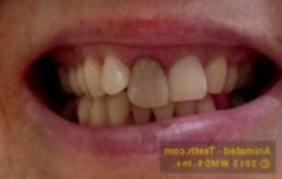Tooth Discoloration: (127, 53, 171, 107)
